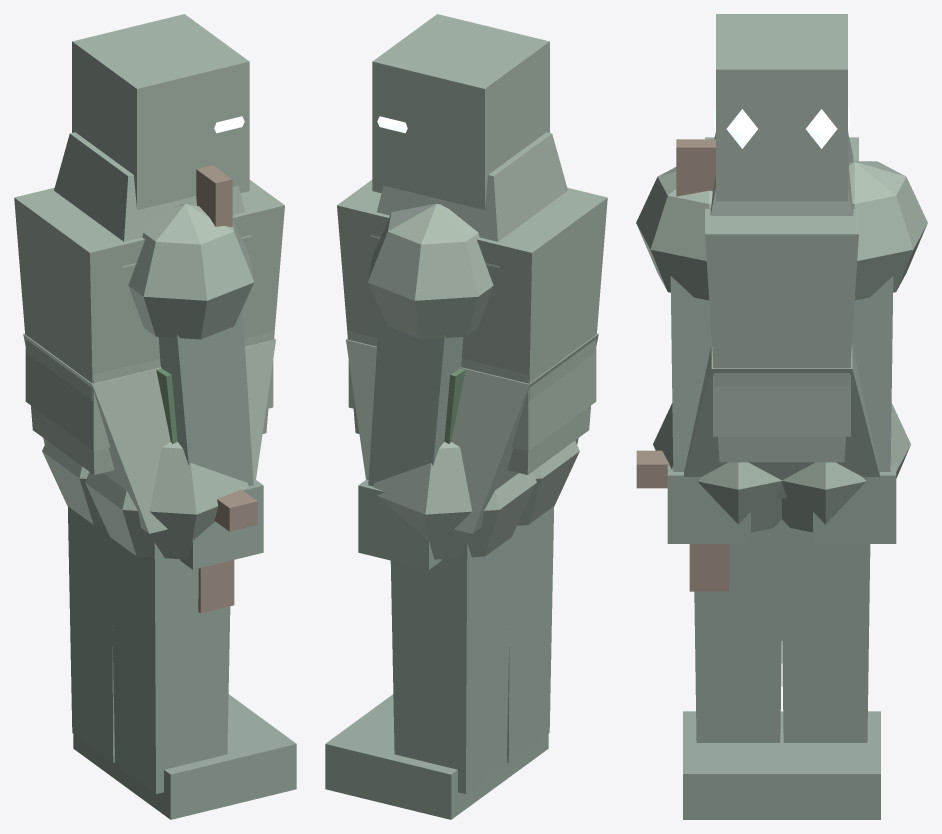
Rendered from drowned.glb.
3 views of the same model, side by side, from view 1: azimuth 30°, elevation 25°; view 2: azimuth 150°, elevation 25°; view 3: azimuth 270°, elevation 25° (orthographic).
Visible parts, largest first — view 1: body, legR, head, armR, legL, blade, kelp_1; view 2: body, legL, head, armL, legR, kelp_0; view 3: body, legL, legR, head, armL, armR, blade, eye.
Part boxes in pixels (<box>): body: <box>14,132,284,559</box>; legR: <box>110,538,296,819</box>; head: <box>72,14,249,210</box>; armR: <box>158,309,263,569</box>; legL: <box>67,506,241,786</box>; blade: <box>196,165,257,613</box>; kelp_1: <box>156,368,177,443</box>; body: <box>337,132,607,559</box>; legL: <box>325,538,509,819</box>; head: <box>372,14,549,210</box>; armL: <box>358,309,463,569</box>; legR: <box>380,506,554,779</box>; kelp_0: <box>444,368,465,443</box>; body: <box>636,132,927,532</box>; legL: <box>770,519,880,819</box>; legR: <box>683,519,793,819</box>; head: <box>716,14,847,201</box>; armL: <box>813,276,896,543</box>; armR: <box>667,276,750,543</box>; blade: <box>636,139,729,591</box>; eye: <box>713,107,850,148</box>.
Bounding box in the file's own units: 0.3484 × 1.23 × 0.4423.
